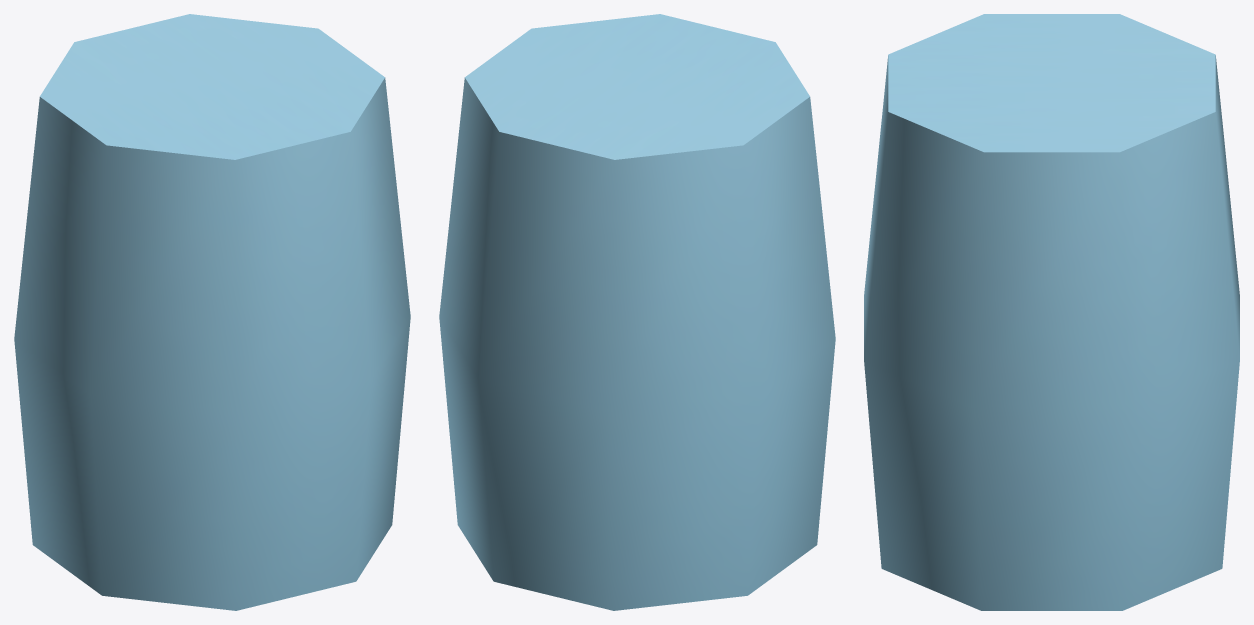
The model's file is mug_glass_content_water.fbx.
3 renders of one model, left to right at view 1: azimuth 30°, elevation 25°; view 2: azimuth 150°, elevation 25°; view 3: azimuth 270°, elevation 25°, orthographic.
Visible parts, largest first — view 1: mug_glass_content_water; view 2: mug_glass_content_water; view 3: mug_glass_content_water.
Part boxes in pixels (left/top/right/bottom): mug_glass_content_water: left=14, top=14, right=410, bottom=610; mug_glass_content_water: left=439, top=14, right=835, bottom=610; mug_glass_content_water: left=864, top=14, right=1239, bottom=610.
Size of the model in its own units: 16.16 by 21.62 by 16.16.
